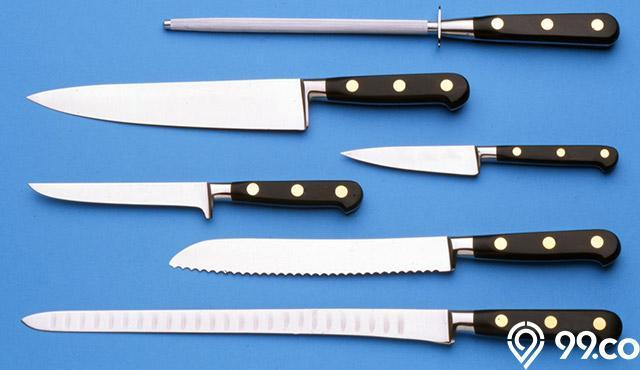faca: (28, 73, 469, 131), (170, 229, 620, 275), (30, 180, 362, 218), (343, 145, 618, 175)
facao: (22, 310, 621, 344)
